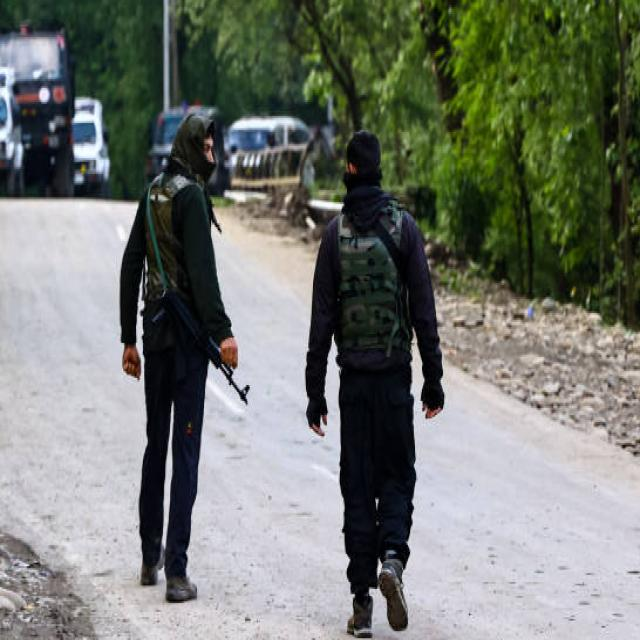LMV: (0, 25, 75, 195), (149, 102, 221, 179), (225, 116, 314, 165), (72, 97, 112, 198), (0, 67, 25, 198)
terrorist: (304, 132, 446, 639), (118, 114, 251, 603)
